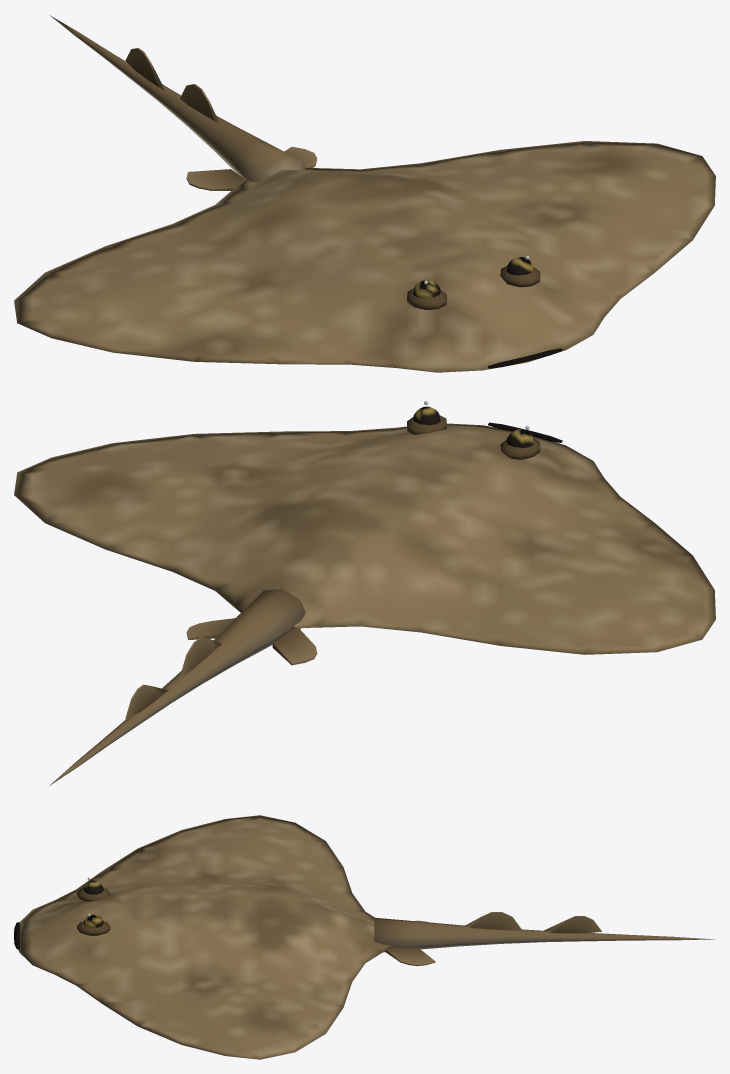
The model's file is Gemuendina.fbx.
The picture shows the model from 3 angles, top to bottom: view 1: azimuth 30°, elevation 25°; view 2: azimuth 150°, elevation 25°; view 3: azimuth 270°, elevation 25°; orthographic projection. The views are drawn at different scales.
Parts seen in each view (by area): view 1: Gemuendina; view 2: Gemuendina; view 3: Gemuendina.
Boxes of the visible parts, x1,y1,x2,y2 form: Gemuendina: (14, 15, 715, 372); Gemuendina: (14, 401, 715, 785); Gemuendina: (14, 815, 714, 1059).
Bounding box in the file's own units: 1.32 × 0.1425 × 1.6.
